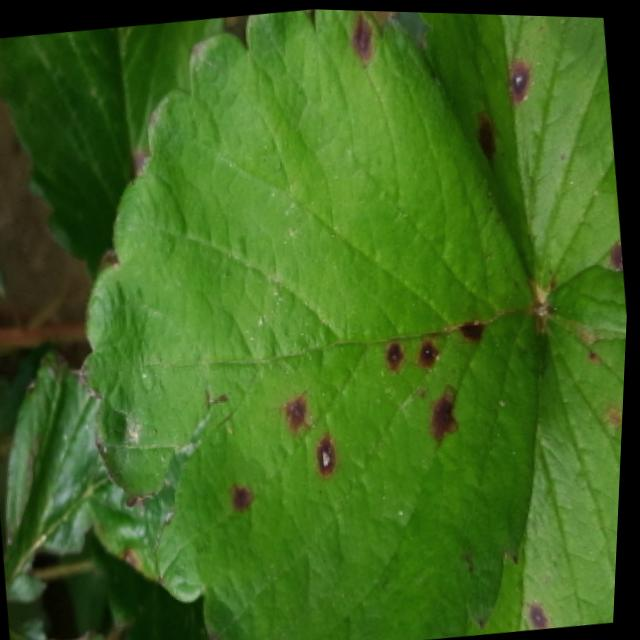Leaf Spot: (86, 7, 541, 640), (412, 10, 630, 331), (0, 15, 224, 277), (473, 305, 629, 632), (95, 541, 212, 640)
